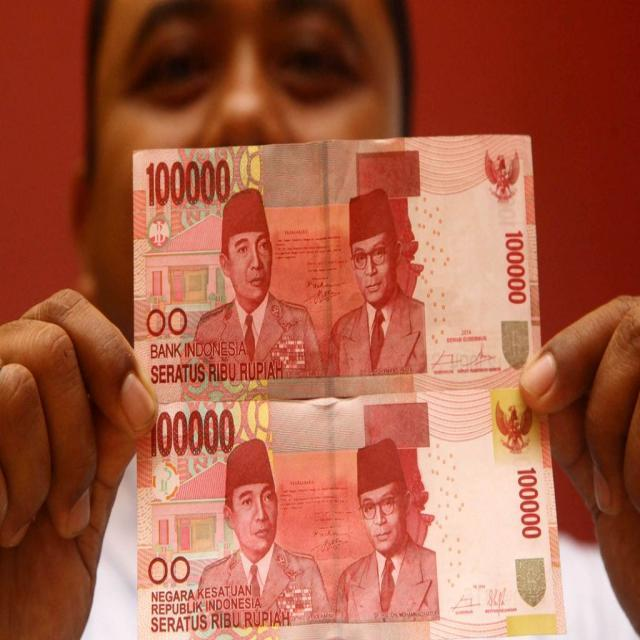seratus ribu rupiah: (136, 395, 572, 640), (132, 140, 547, 382)
